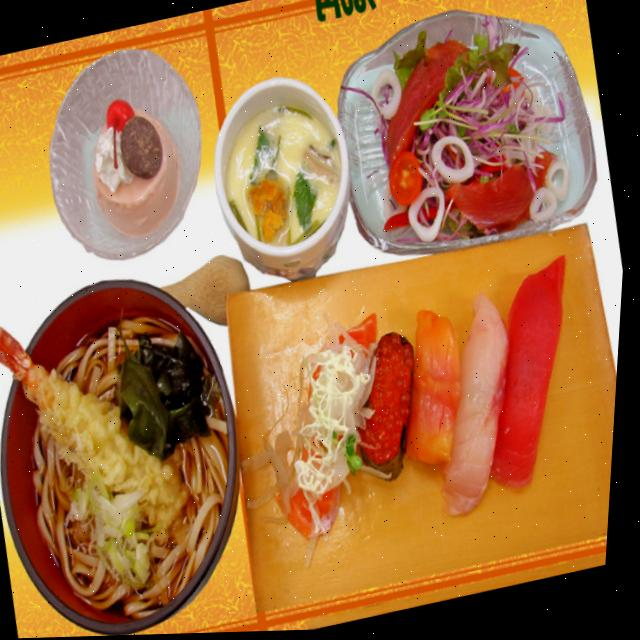面条主食: (0, 262, 281, 640)
